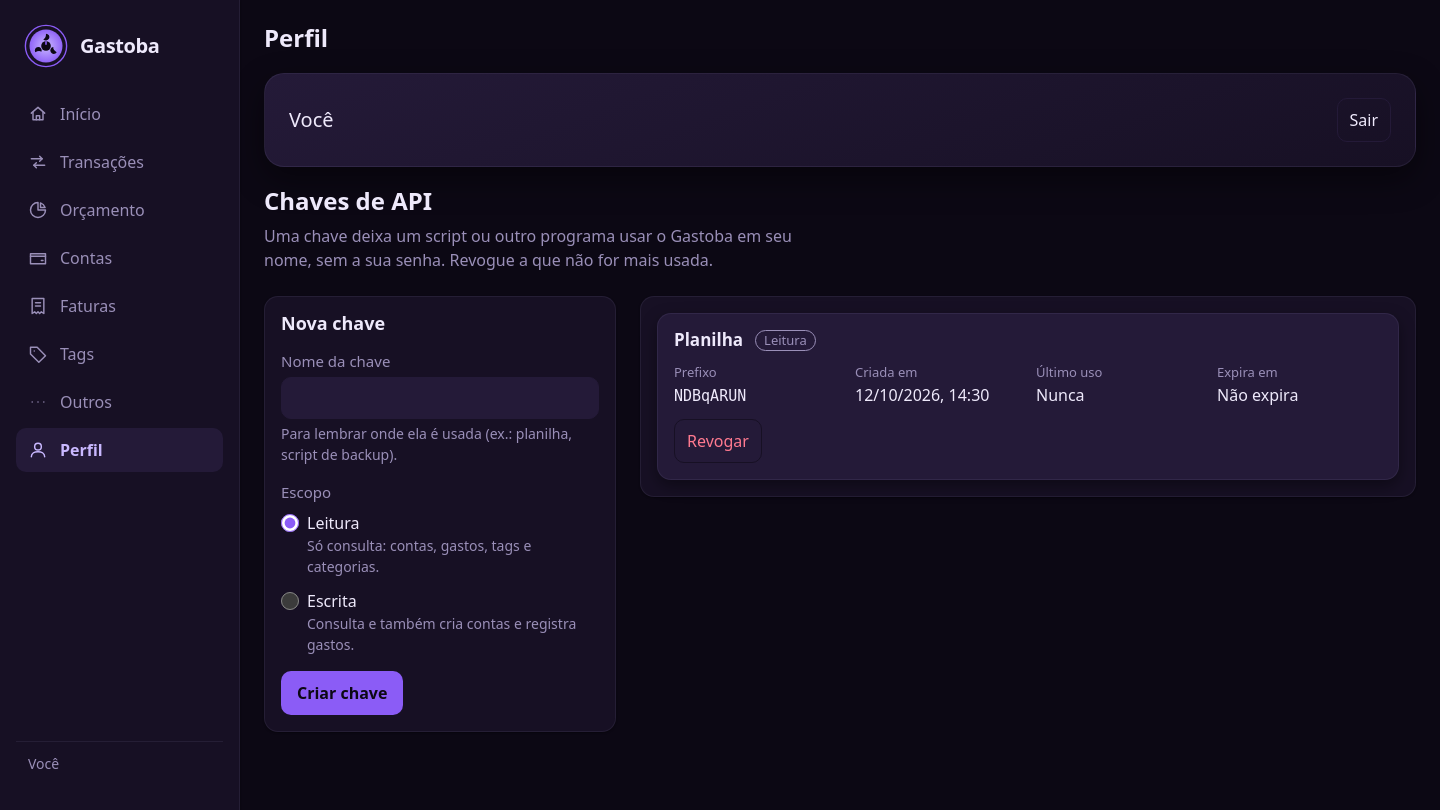
Scenario: Perfil › revogar uma chave já revogada mostra a mensagem da API e recarrega a lista
Click the button with aria-label "Revogar a chave Planilha" at (718, 441), box [674,419,762,463]
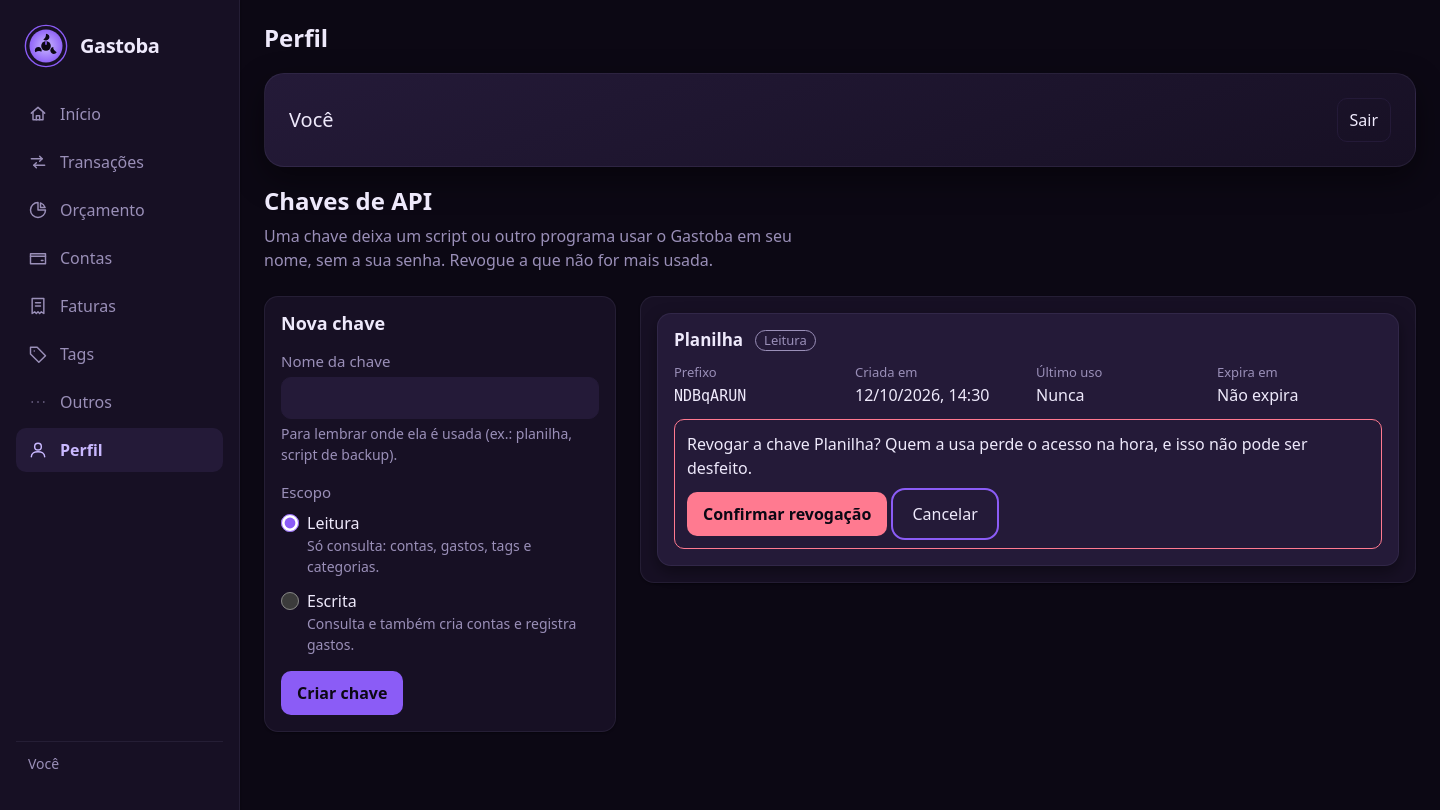
Click the button "Confirmar revogação" at (787, 514), box [687,492,887,536]
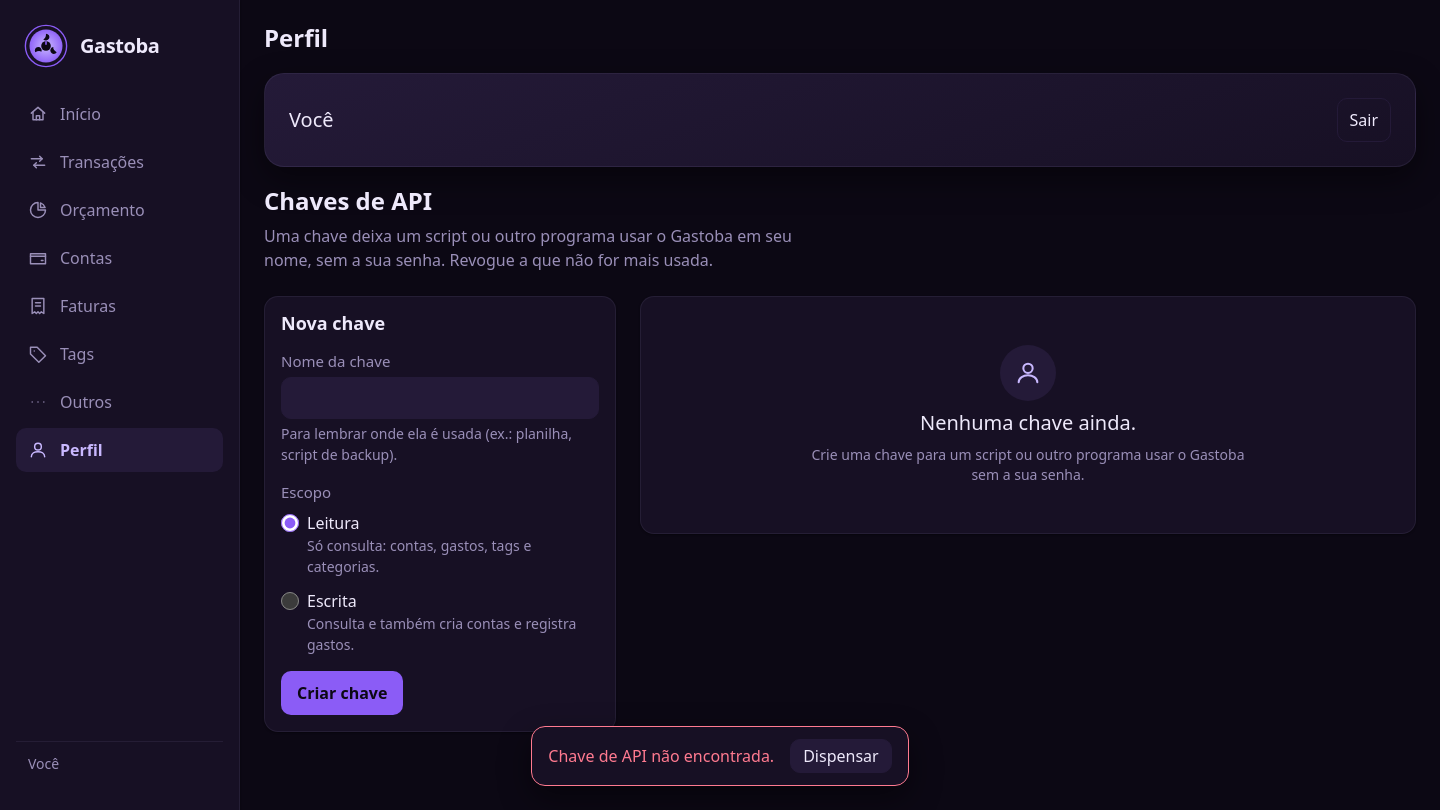
Expected: the text "Chave de API não encontrada." is shown, [548,745,774,767]
Expected: the text "Nenhuma chave ainda." is shown, [920,409,1136,437]
